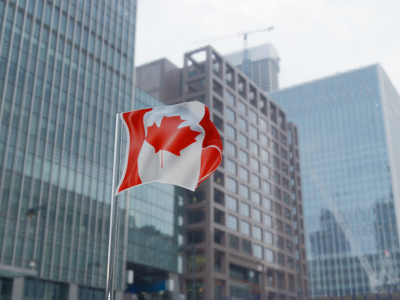Canada flag: (120, 99, 224, 194)
